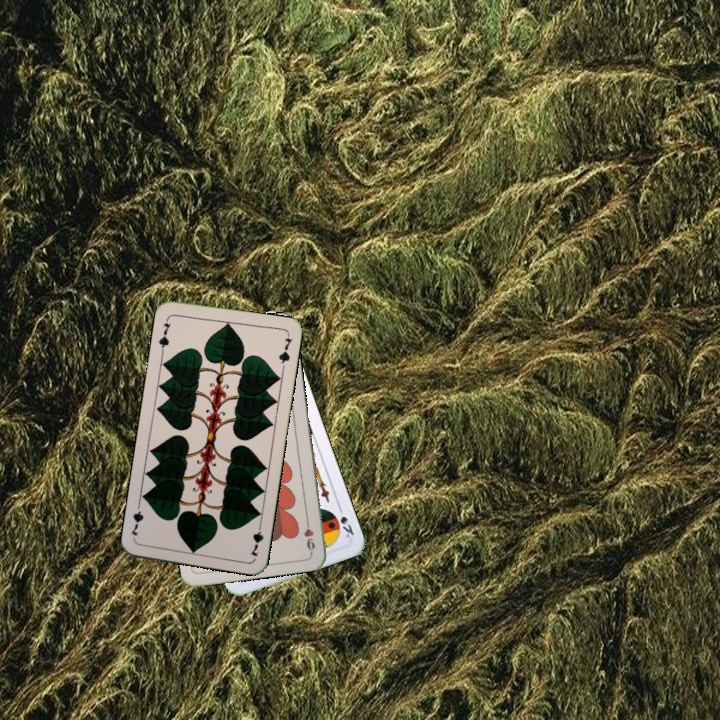G7: (246, 519, 266, 559), (154, 314, 173, 354)
H9: (300, 514, 317, 555)
SK: (334, 501, 357, 540)
